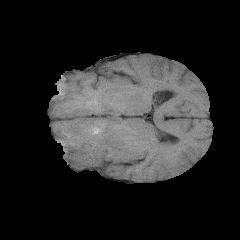glioma: (53, 98, 132, 167)
